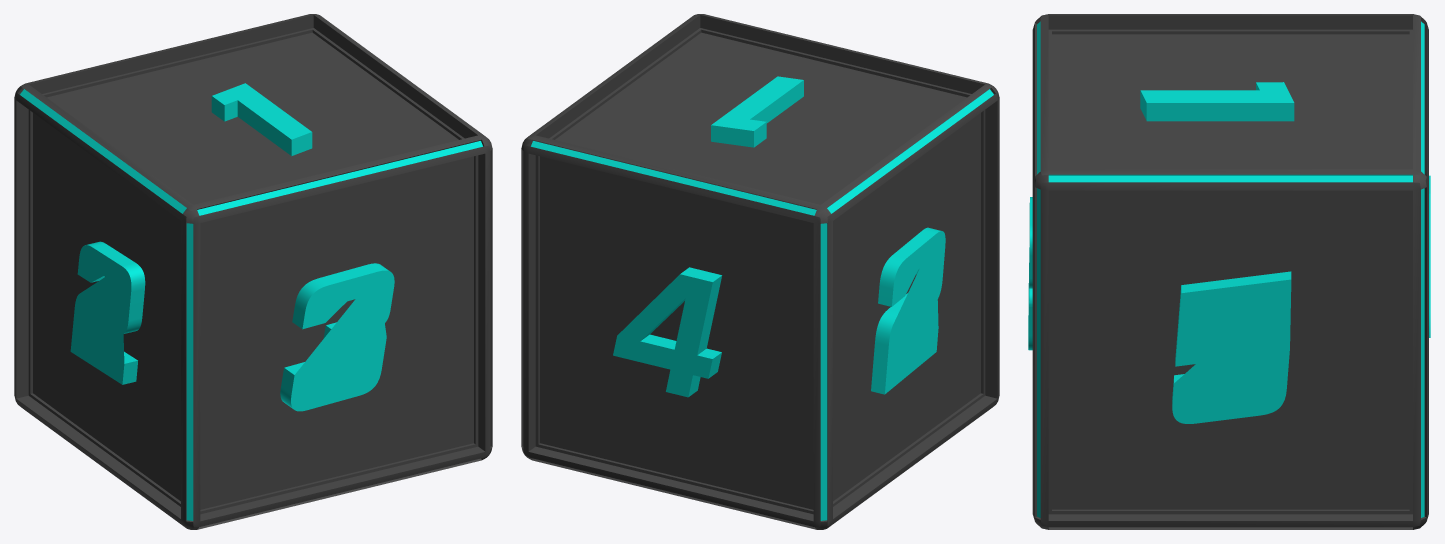
File: D6_dice_final.fbx
The picture shows the model from 3 angles, left to right: view 1: azimuth 30°, elevation 25°; view 2: azimuth 150°, elevation 25°; view 3: azimuth 270°, elevation 25°; orthographic projection. The views are drawn at different scales.
Parts seen in each view (by area): view 1: d6Base, numbers, d6EmissiveEdges; view 2: d6Base, numbers, d6EmissiveEdges; view 3: d6Base, numbers, d6EmissiveEdges.
Part boxes in pixels (x1,y1,x2,y2): d6Base: (14,14,492,529); numbers: (70,83,394,411); d6EmissiveEdges: (20,89,482,520); d6Base: (521,14,999,529); numbers: (613,76,945,397); d6EmissiveEdges: (531,89,993,520); d6Base: (1032,14,1428,529); numbers: (1028,82,1430,423); d6EmissiveEdges: (1037,21,1424,517).
Size of the model in its own units: 7.11 by 7.13 by 7.22.
